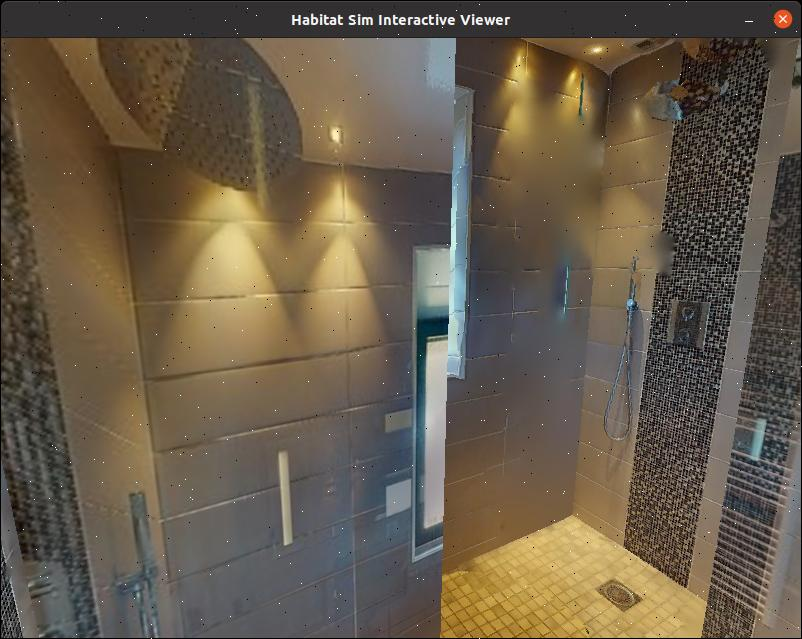shower: (429, 49, 724, 639)
